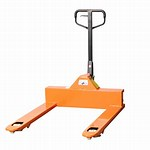Pallet Jack: (4, 8, 126, 140)
